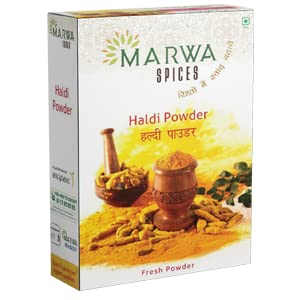Haldi: (129, 114, 159, 126)
Powder: (164, 110, 208, 122)
